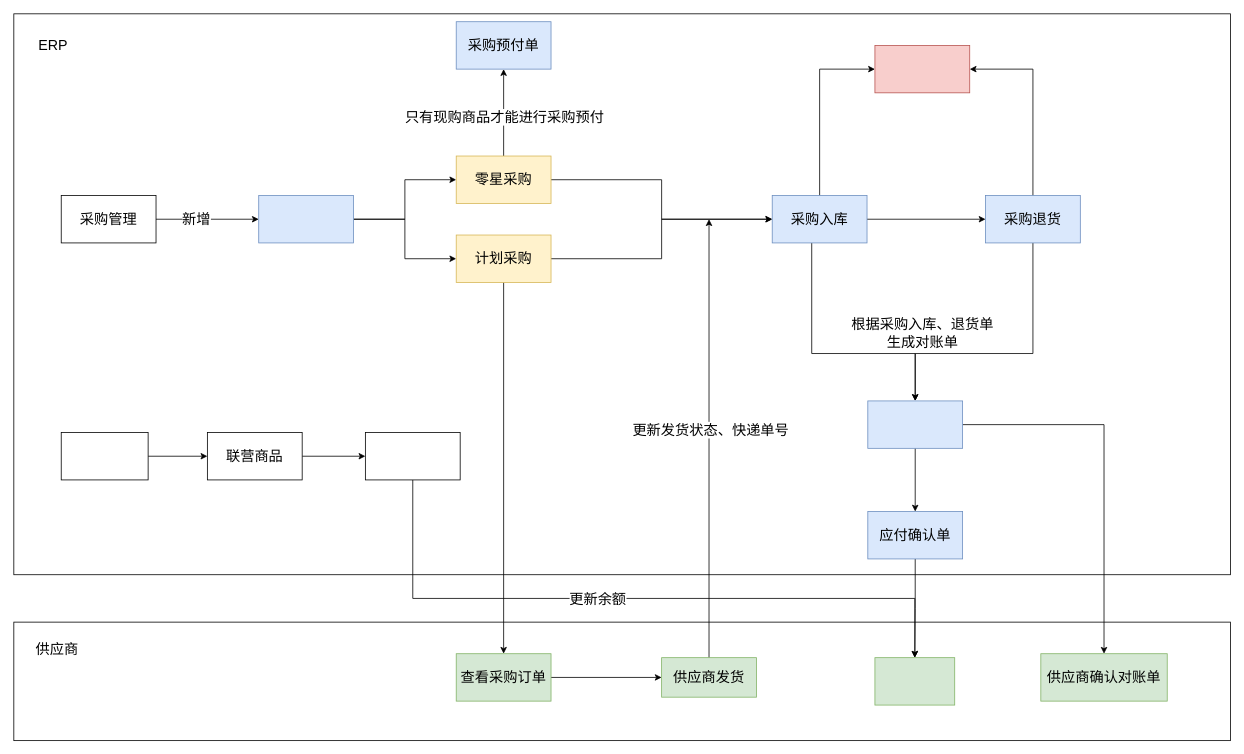
The diagram is 1244 pixels wide and 754 high, and some of its shapes have lost their labels. The centre of each missing label's shape, as x and y in pixels:
"库存服务 更新库存" belongs at [922,69].
"更新供应商账户余额" belongs at [914,681].
"联营结算单" belongs at [412,456].
"采购对账单" belongs at [915,424].
"采购订单" belongs at [306,219].
"销售订单" belongs at [104,456].
